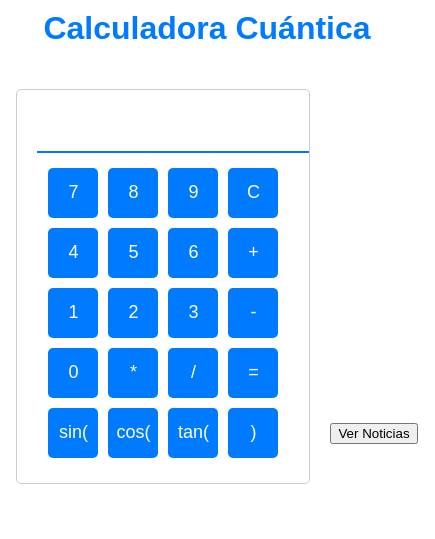
Scenario: performs basic subtraction
The width and height of the screenshot is (435, 539).
Ingresa los números y realiza la resta
Click the button "5" at (133, 253), box [108, 228, 158, 278]
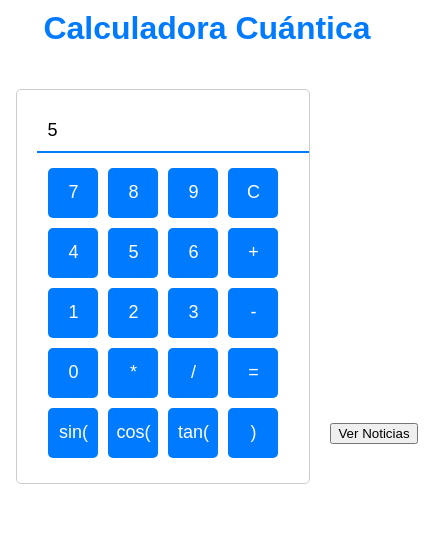
Click the button "-" at (253, 313), box [228, 288, 278, 338]
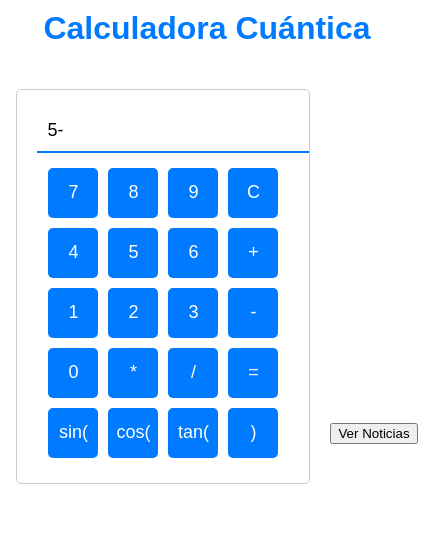
Click the button "3" at (193, 313), box [168, 288, 218, 338]
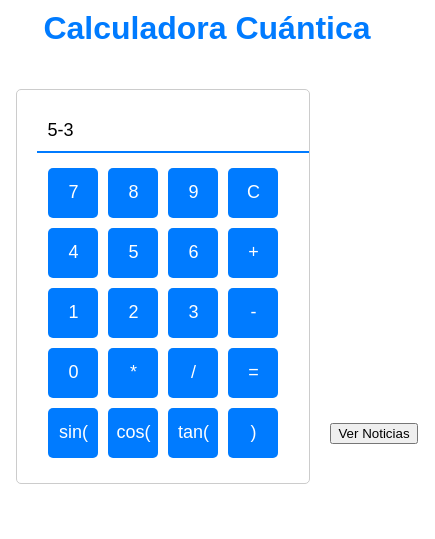
Click the button "=" at (253, 373), box [228, 348, 278, 398]
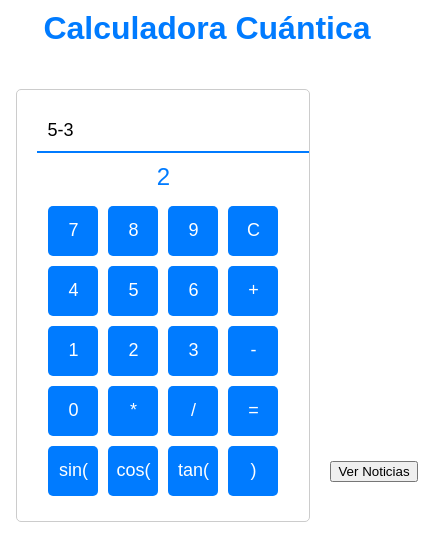
Check: the text with test id "result" reads "2", box [157, 163, 170, 190]
